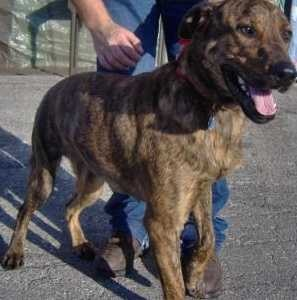dog: (0, 0, 297, 232)
